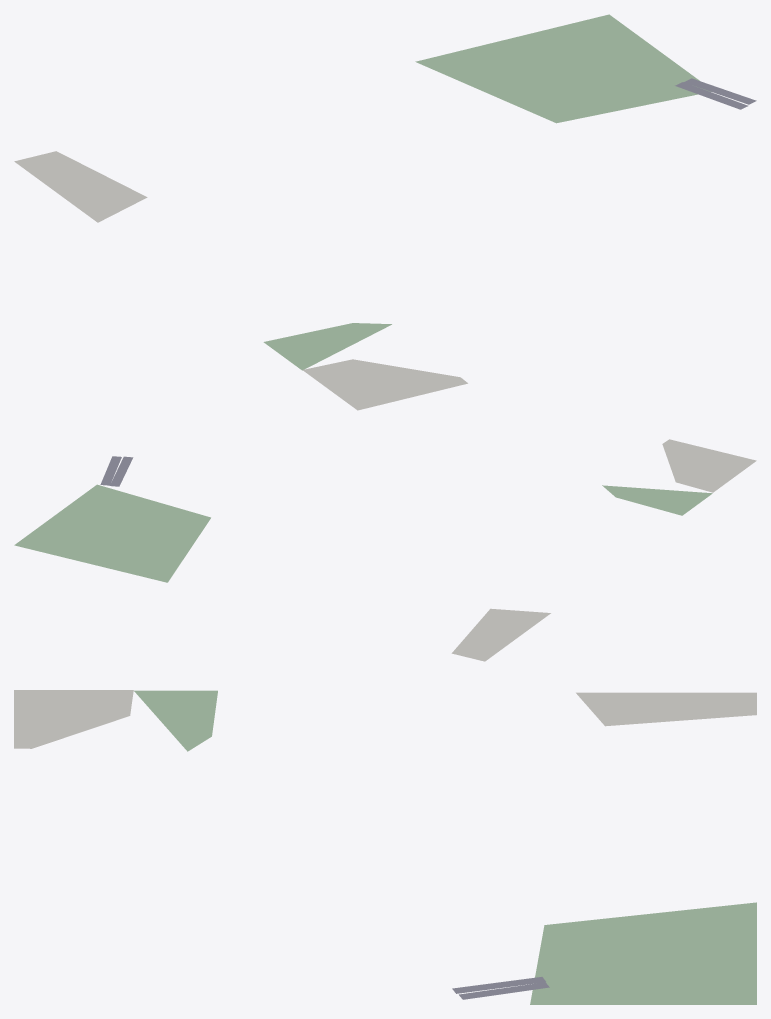
File: 143_110_mid.glb
The picture shows the model from 3 angles, top to bottom: view 1: azimuth 30°, elevation 25°; view 2: azimuth 150°, elevation 25°; view 3: azimuth 270°, elevation 25°; orthographic projection. The views are drawn at different scales.
Size of the model in its own units: 510 by 9.68 by 500.
